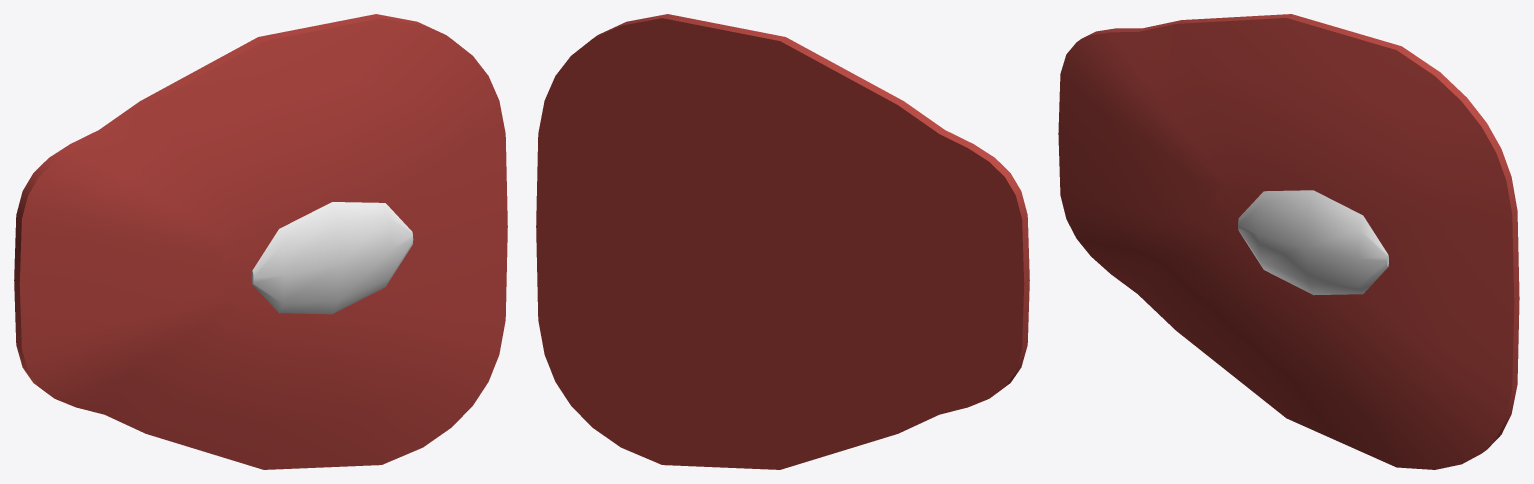
Rendered from triangle_lod1.glb.
3 views of the same model, side by side, from view 1: azimuth 30°, elevation 25°; view 2: azimuth 150°, elevation 25°; view 3: azimuth 330°, elevation 25° (orthographic). The views are drawn at different scales.
Visible parts, largest first — view 1: triangle_lod1; view 2: triangle_lod1; view 3: triangle_lod1.
Boxes of the visible parts, x1,y1,x2,y2 form: triangle_lod1: (14, 14, 507, 469); triangle_lod1: (536, 14, 1029, 469); triangle_lod1: (1058, 14, 1519, 469).
Bounding box in the file's own units: 0.2 × 0.1773 × 0.0235.
